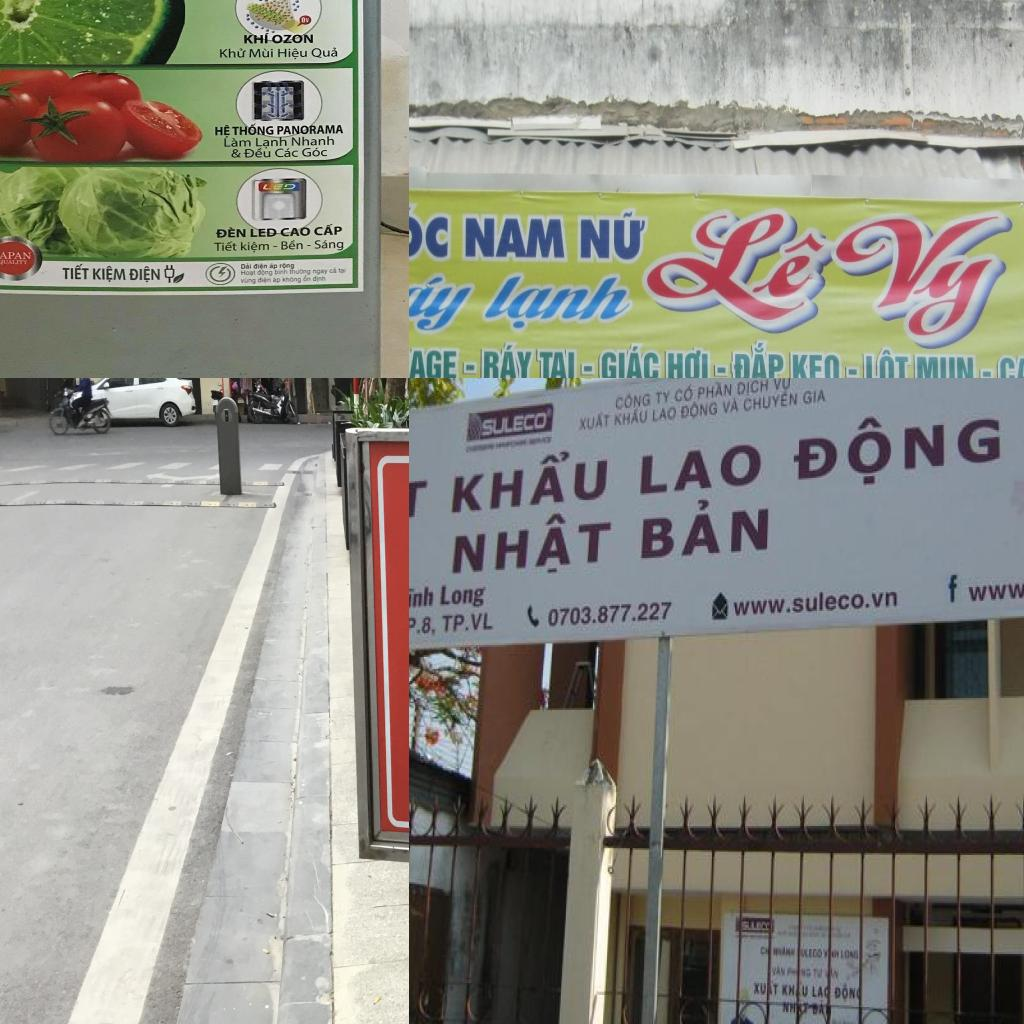text: (803, 199, 1024, 344), (634, 195, 844, 332), (794, 401, 1004, 495), (474, 266, 645, 337), (450, 508, 614, 578), (451, 444, 608, 514), (640, 495, 771, 560), (639, 440, 764, 497), (734, 584, 898, 620), (462, 212, 570, 264), (409, 265, 483, 334), (570, 202, 650, 264), (547, 600, 673, 630), (409, 195, 455, 267), (594, 341, 661, 378), (726, 338, 784, 378), (912, 343, 978, 378), (478, 340, 535, 378), (482, 412, 550, 440), (857, 344, 912, 378), (409, 341, 459, 378), (662, 343, 710, 378), (785, 351, 841, 378), (440, 611, 497, 635), (440, 582, 486, 611), (534, 347, 577, 378), (744, 391, 799, 415), (993, 345, 1024, 378), (696, 379, 734, 403), (680, 398, 721, 420), (276, 123, 345, 135), (579, 410, 612, 434), (614, 391, 652, 411), (409, 583, 435, 609), (90, 265, 126, 283), (614, 410, 650, 428), (129, 265, 162, 284), (737, 378, 770, 397), (231, 122, 274, 136), (409, 614, 436, 636), (62, 262, 91, 280), (275, 47, 310, 61), (254, 136, 289, 150), (311, 223, 346, 237), (835, 983, 858, 1004), (238, 240, 271, 254), (314, 238, 347, 252), (674, 382, 696, 403), (290, 136, 336, 146), (652, 406, 678, 423), (272, 34, 316, 44), (803, 388, 827, 406), (214, 226, 248, 238), (308, 46, 340, 58), (280, 226, 312, 238), (947, 572, 959, 604), (722, 396, 742, 415), (244, 32, 271, 46), (217, 46, 248, 58), (261, 182, 298, 192), (0, 249, 33, 260), (222, 137, 252, 149), (300, 146, 330, 158), (249, 227, 278, 238), (248, 47, 274, 59), (244, 148, 272, 159), (773, 378, 792, 394), (213, 240, 238, 252), (280, 240, 305, 252), (214, 123, 232, 139), (840, 947, 860, 961), (780, 983, 798, 998), (812, 985, 830, 1000), (656, 389, 671, 406), (274, 148, 299, 158), (753, 981, 767, 995), (290, 268, 312, 276), (281, 276, 303, 284), (0, 259, 28, 265), (256, 269, 274, 277), (812, 968, 824, 980), (279, 262, 296, 270), (240, 269, 257, 277), (253, 262, 269, 270), (240, 277, 256, 285), (256, 276, 272, 284), (312, 275, 328, 283), (772, 983, 781, 997), (311, 268, 330, 274), (230, 149, 242, 158), (802, 985, 809, 1000), (240, 262, 253, 270), (274, 269, 289, 275), (300, 16, 311, 24), (759, 946, 766, 958), (268, 262, 278, 270), (338, 267, 348, 275), (272, 276, 282, 284), (329, 266, 338, 274), (302, 275, 312, 282)
